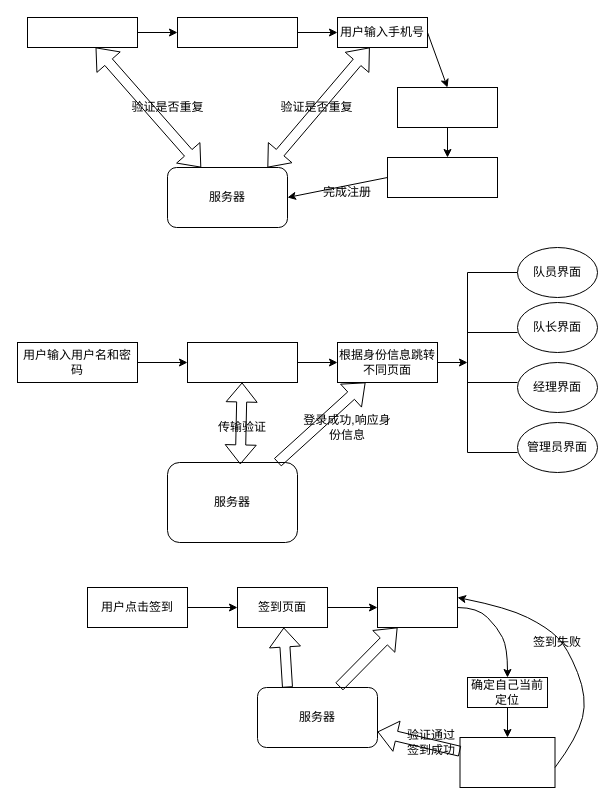
Image size: 615x805. Some labels were removed from this diagram. Here are the shapes that lost their labels. From the top down, the box of each, then its label:
(26, 16, 138, 48): 用户输入用户名
(176, 16, 298, 48): 用户输入密码,姓名等信息
(396, 86, 498, 128): 向用户的手机发送验证码
(386, 156, 498, 198): 确认注册
(186, 342, 298, 382): MD5加密
(376, 586, 458, 628): 选择活动
(459, 736, 555, 788): 将获得的经纬度与活动的经纬度做判断
